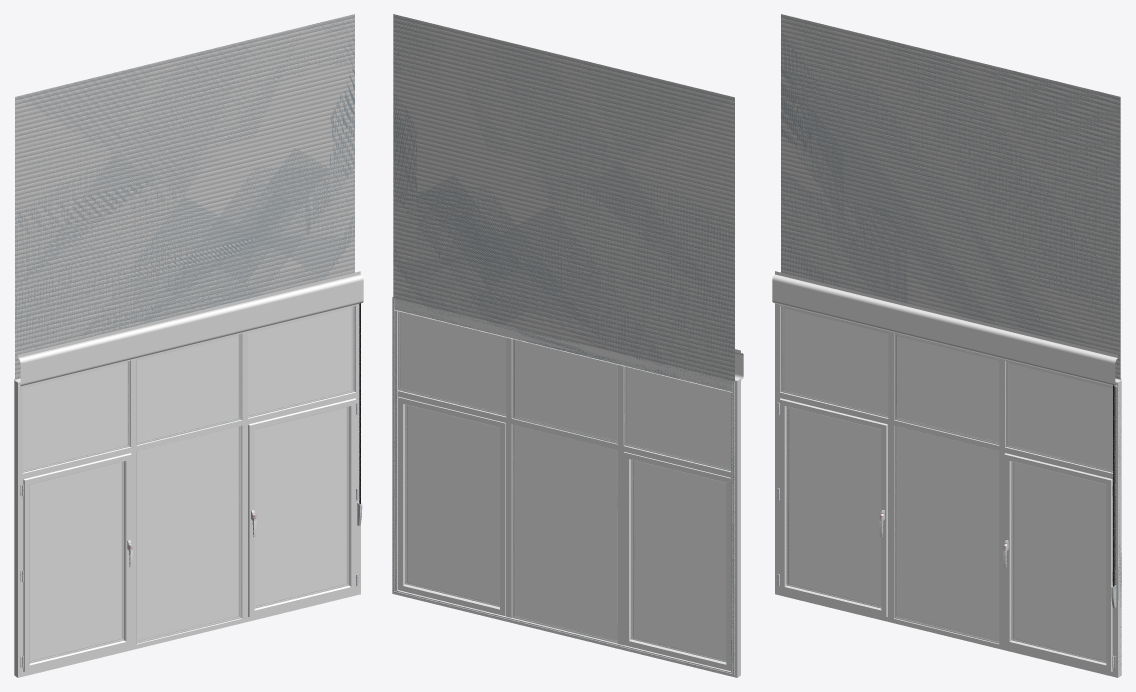
Rendered from Window3_220x200x[3 casement_blinds].dae.
3 views of the same model, side by side, from view 1: azimuth 30°, elevation 25°; view 2: azimuth 150°, elevation 25°; view 3: azimuth 330°, elevation 25° (orthographic).
Visible parts, largest first — view 1: group_2 (×8), group_23, group_6 (×4), group_3 (×2), group_28, group_7 (×4); view 2: group_23 (×2), group_2 (×8), group_6 (×4), group_3 (×2), group_7 (×4), group_22 (×2); view 3: group_2 (×8), group_23, group_6 (×4), group_3 (×2), group_28, group_7 (×4).
Part boxes in pixels (box(x1,y1,x2,y2)): group_2 (×8): box(23, 306, 355, 643); group_23: box(15, 14, 354, 378); group_6 (×4): box(30, 406, 349, 663); group_3 (×2): box(14, 304, 360, 677); group_28: box(17, 271, 363, 386); group_7 (×4): box(23, 398, 355, 671); group_23 (×2): box(393, 14, 734, 392); group_2 (×8): box(398, 311, 730, 643); group_6 (×4): box(405, 404, 726, 662); group_3 (×2): box(392, 296, 740, 677); group_7 (×4): box(398, 396, 730, 671); group_22 (×2): box(392, 298, 734, 675); group_2 (×8): box(780, 306, 1112, 643); group_23: box(781, 14, 1120, 378); group_6 (×4): box(786, 406, 1106, 663); group_3 (×2): box(775, 303, 1121, 677); group_28: box(772, 271, 1117, 386); group_7 (×4): box(780, 398, 1112, 671).
Size of the model in its own units: 86.63 by 4.16 by 139.
12 materials, 1 textured.
